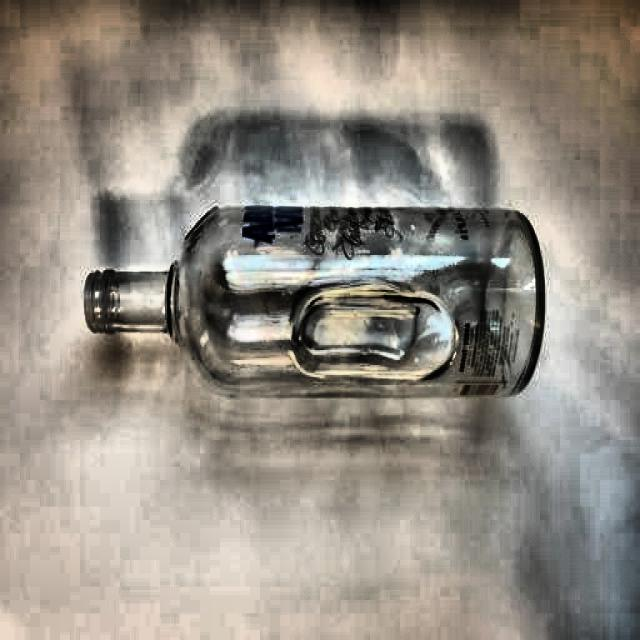glass: (76, 199, 547, 405)
